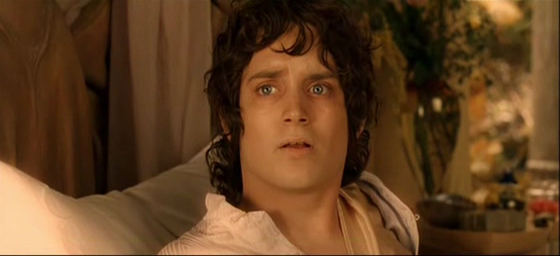cu: (1, 1, 560, 256)
face: (240, 39, 347, 192)
person: (155, 1, 419, 254)
